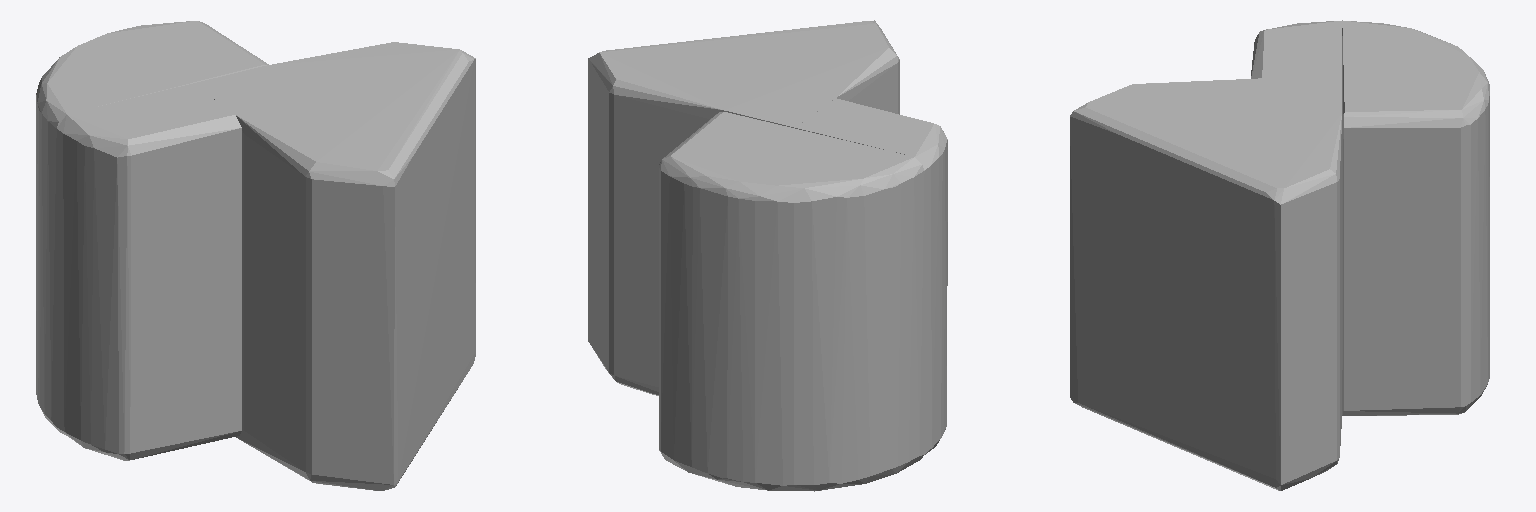
The robot description file, URDF, robot "root":
<robot name="root">
  <link name="link_cross_round_Top_convex_piece_0">
    <inertial>
      <origin xyz="0 0 0" rpy="0 0 0"/>
      <mass value="1.03E-01"/>
      <inertia ixx="7.63E-05" ixy="1.26E-05" ixz="9.22E-08" iyy="7.62E-05" iyz="-9.50E-08" izz="7.32E-05"/>
    </inertial>
    <visual>
      <origin xyz="0 0 0" rpy="0 0 0"/>
      <geometry>
        <mesh filename="cross_round_Top_convex_piece_0.obj" scale="1.0000E+00 1.0000E+00 1.0000E+00"/>
      </geometry>
      <material name="">
        <color rgba="7.50E-01 7.50E-01 7.50E-01 1"/>
      </material>
    </visual>
    <collision>
      <origin xyz="0 0 0" rpy="0 0 0"/>
      <geometry>
        <mesh filename="cross_round_Top_convex_piece_0.obj" scale="1.0000E+00 1.0000E+00 1.0000E+00"/>
      </geometry>
    </collision>
  </link>
  <link name="link_cross_round_Top_convex_piece_1">
    <inertial>
      <origin xyz="0 0 0" rpy="0 0 0"/>
      <mass value="2.69E-02"/>
      <inertia ixx="1.11E-05" ixy="-1.56E-07" ixz="-3.81E-08" iyy="2.59E-05" iyz="-1.09E-08" izz="1.63E-05"/>
    </inertial>
    <visual>
      <origin xyz="0 0 0" rpy="0 0 0"/>
      <geometry>
        <mesh filename="cross_round_Top_convex_piece_1.obj" scale="1.0000E+00 1.0000E+00 1.0000E+00"/>
      </geometry>
      <material name="">
        <color rgba="7.50E-01 7.50E-01 7.50E-01 1"/>
      </material>
    </visual>
    <collision>
      <origin xyz="0 0 0" rpy="0 0 0"/>
      <geometry>
        <mesh filename="cross_round_Top_convex_piece_1.obj" scale="1.0000E+00 1.0000E+00 1.0000E+00"/>
      </geometry>
    </collision>
  </link>
  <joint name="link_cross_round_Top_convex_piece_1_joint" type="fixed">
    <origin xyz="0 0 0" rpy="0 0 0"/>
    <parent link="link_cross_round_Top_convex_piece_0"/>
    <child link="link_cross_round_Top_convex_piece_1"/>
  </joint>
  <link name="link_cross_round_Top_convex_piece_2">
    <inertial>
      <origin xyz="0 0 0" rpy="0 0 0"/>
      <mass value="6.32E-02"/>
      <inertia ixx="5.86E-05" ixy="1.54E-05" ixz="-4.48E-08" iyy="4.37E-05" iyz="7.93E-08" izz="5.35E-05"/>
    </inertial>
    <visual>
      <origin xyz="0 0 0" rpy="0 0 0"/>
      <geometry>
        <mesh filename="cross_round_Top_convex_piece_2.obj" scale="1.0000E+00 1.0000E+00 1.0000E+00"/>
      </geometry>
      <material name="">
        <color rgba="7.50E-01 7.50E-01 7.50E-01 1"/>
      </material>
    </visual>
    <collision>
      <origin xyz="0 0 0" rpy="0 0 0"/>
      <geometry>
        <mesh filename="cross_round_Top_convex_piece_2.obj" scale="1.0000E+00 1.0000E+00 1.0000E+00"/>
      </geometry>
    </collision>
  </link>
  <joint name="link_cross_round_Top_convex_piece_2_joint" type="fixed">
    <origin xyz="0 0 0" rpy="0 0 0"/>
    <parent link="link_cross_round_Top_convex_piece_1"/>
    <child link="link_cross_round_Top_convex_piece_2"/>
  </joint>
</robot>

--- Render facts (derived) ---
The picture shows the robot from 3 angles, left to right: view 1: azimuth 30°, elevation 25°; view 2: azimuth 150°, elevation 25°; view 3: azimuth 270°, elevation 25°; orthographic projection.
Robot: root — 3 links, 2 joints (2 fixed); root link link_cross_round_Top_convex_piece_0; default pose: every joint at zero.
Links seen in each view (by area): view 1: link_cross_round_Top_convex_piece_0, link_cross_round_Top_convex_piece_1, link_cross_round_Top_convex_piece_2; view 2: link_cross_round_Top_convex_piece_2, link_cross_round_Top_convex_piece_0, link_cross_round_Top_convex_piece_1; view 3: link_cross_round_Top_convex_piece_0, link_cross_round_Top_convex_piece_2, link_cross_round_Top_convex_piece_1.
Boxes of the visible links, <box> form: link_cross_round_Top_convex_piece_0: <box>193,42,475,490</box>; link_cross_round_Top_convex_piece_1: <box>57,84,241,460</box>; link_cross_round_Top_convex_piece_2: <box>36,21,268,435</box>; link_cross_round_Top_convex_piece_2: <box>659,112,924,491</box>; link_cross_round_Top_convex_piece_0: <box>588,20,899,395</box>; link_cross_round_Top_convex_piece_1: <box>795,98,947,454</box>; link_cross_round_Top_convex_piece_0: <box>1070,78,1341,490</box>; link_cross_round_Top_convex_piece_2: <box>1342,20,1489,415</box>; link_cross_round_Top_convex_piece_1: <box>1251,21,1341,78</box>.
Size in the robot's own frame: 0.0858 by 0.0858 by 0.0684 metres.
Meshes: 3 distinct files referenced, 3 mesh visuals loaded (3 OBJ).
